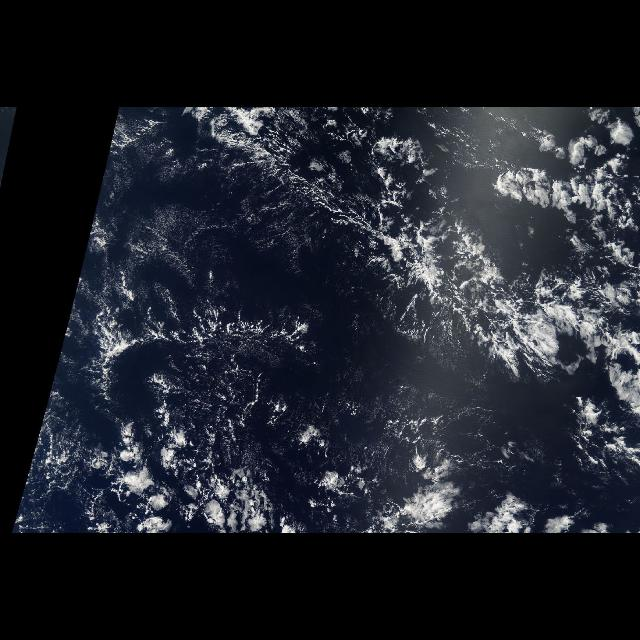Fish: (206, 109, 588, 378)
Gravel: (80, 184, 304, 362)
Sugar: (88, 116, 314, 320)
